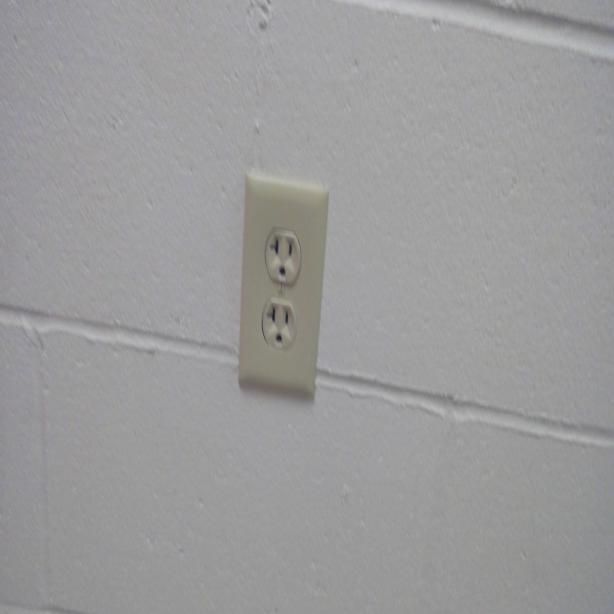typeb: (258, 296, 293, 350), (268, 229, 302, 281)
